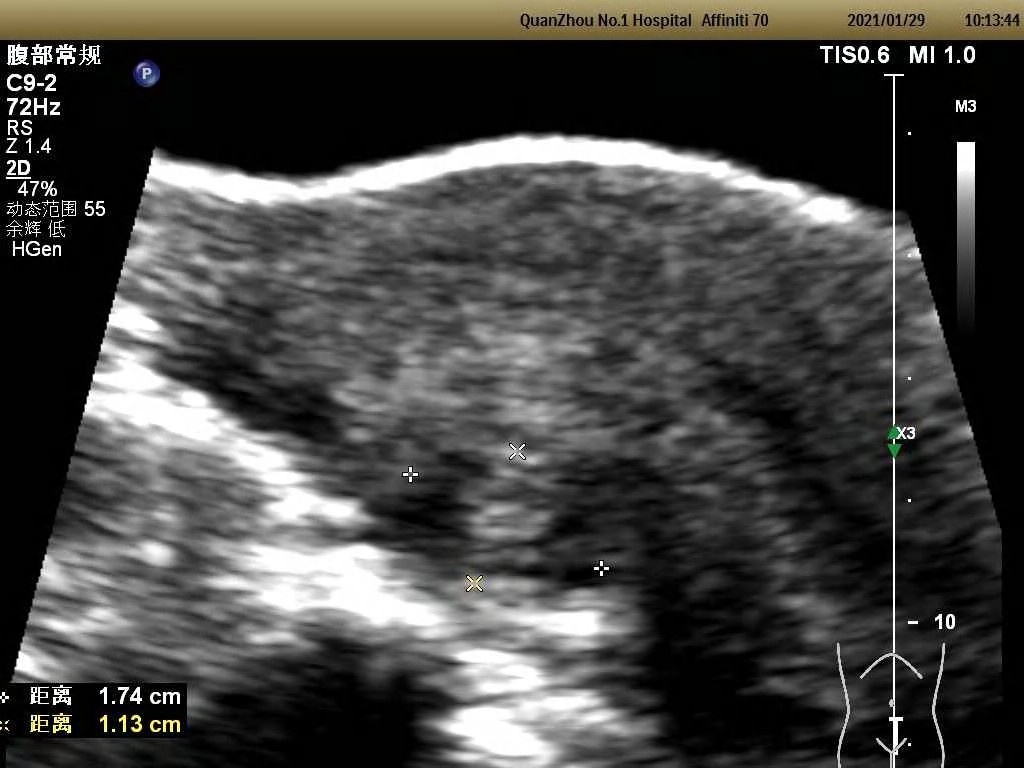肌瘤: (410, 448, 603, 583)
